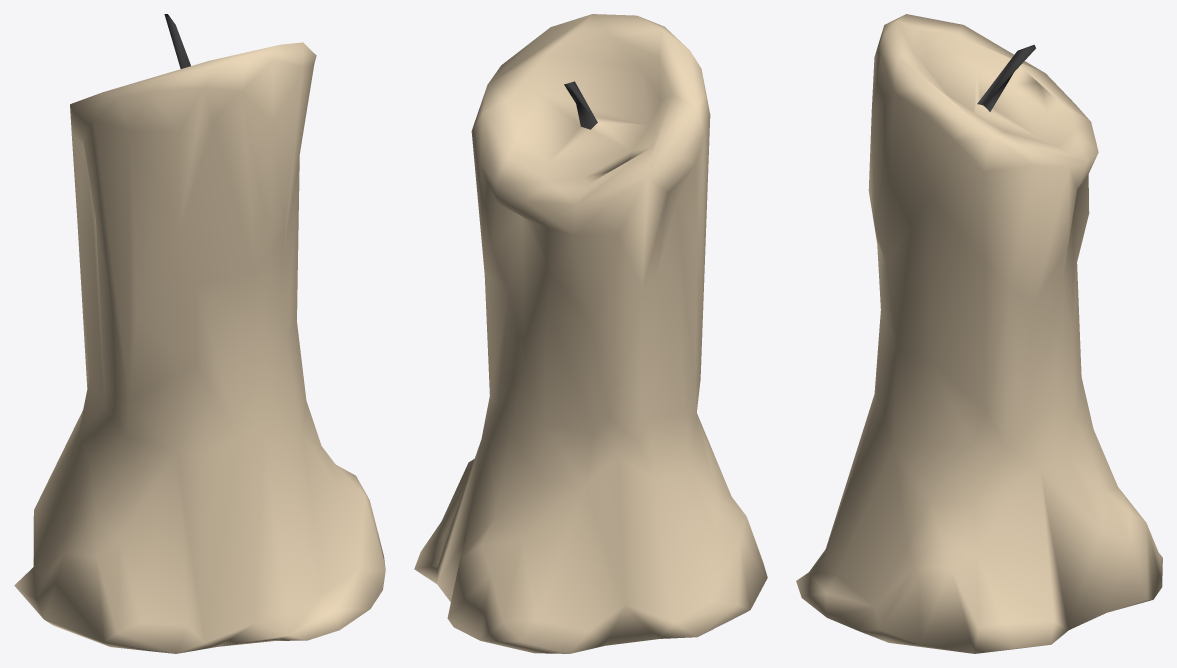
Rendered from 1 candle_LP 1.fbx.
The picture shows the model from 3 angles, left to right: view 1: azimuth 30°, elevation 25°; view 2: azimuth 150°, elevation 25°; view 3: azimuth 270°, elevation 25°; orthographic projection. The views are drawn at different scales.
Visible parts, largest first — view 1: Candle 1.001; view 2: Candle 1.001; view 3: Candle 1.001.
Boxes of the visible parts, x1=… form: Candle 1.001: x1=14, y1=14, x2=385, y2=653; Candle 1.001: x1=414, y1=14, x2=767, y2=653; Candle 1.001: x1=796, y1=14, x2=1162, y2=653.
Size of the model in its own units: 107 by 178 by 108.
